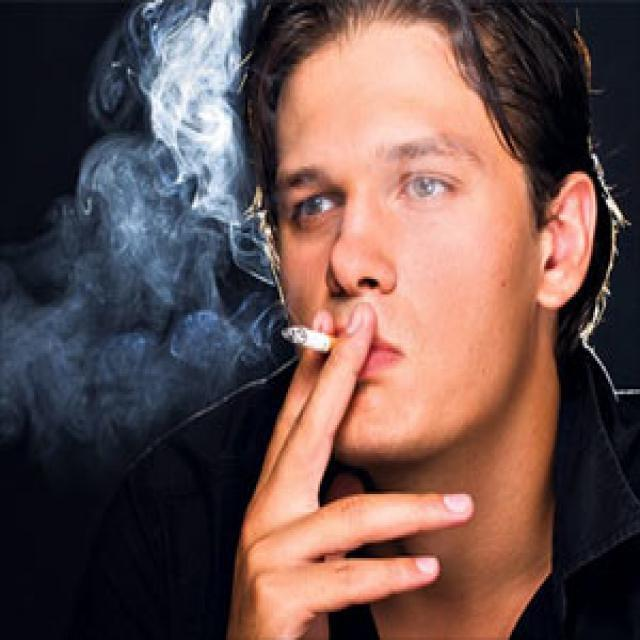smoking: (266, 317, 386, 355)
